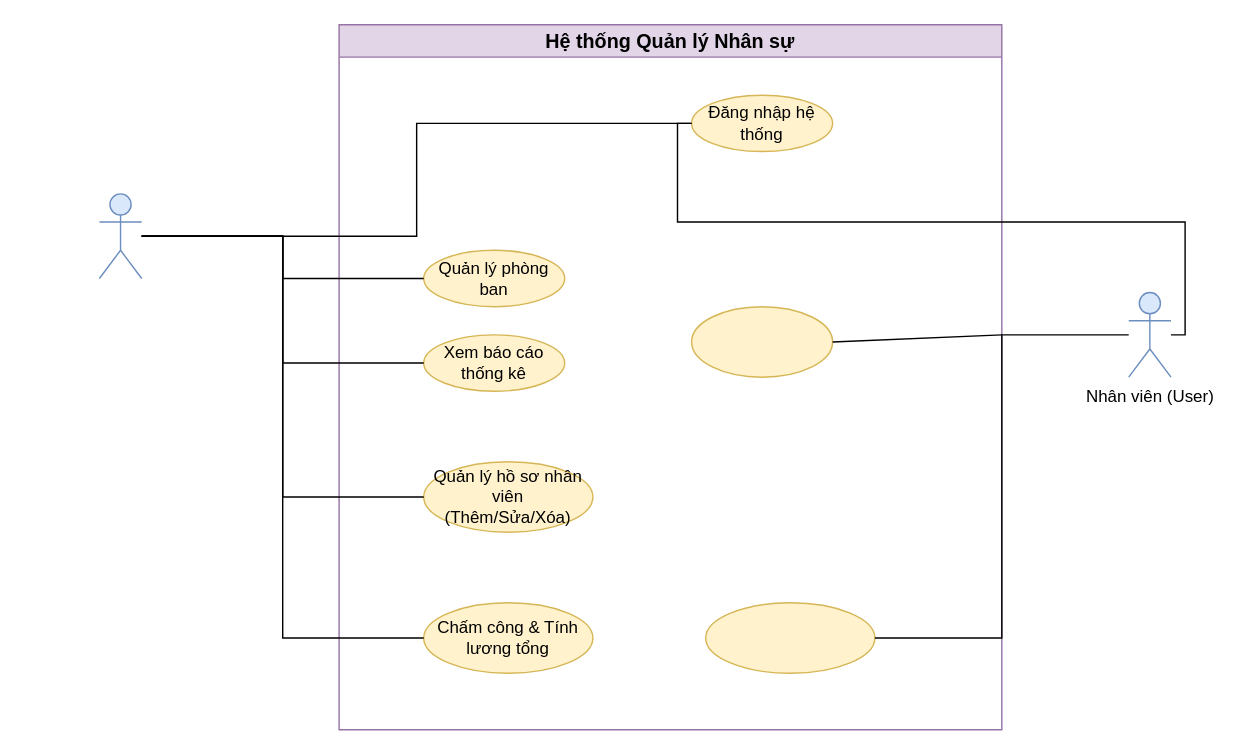
Image size: 1238x754. Some labels were removed from this diagram. Here are the shapes that lost their labels. From the top down, the centre of each, then its label:
At (120,235): "Quản lý Nhân sự (Admin)".
At (761,341): "Xem bảng lương cá nhân".
At (789,637): "Xem thông tin cá nhân".
